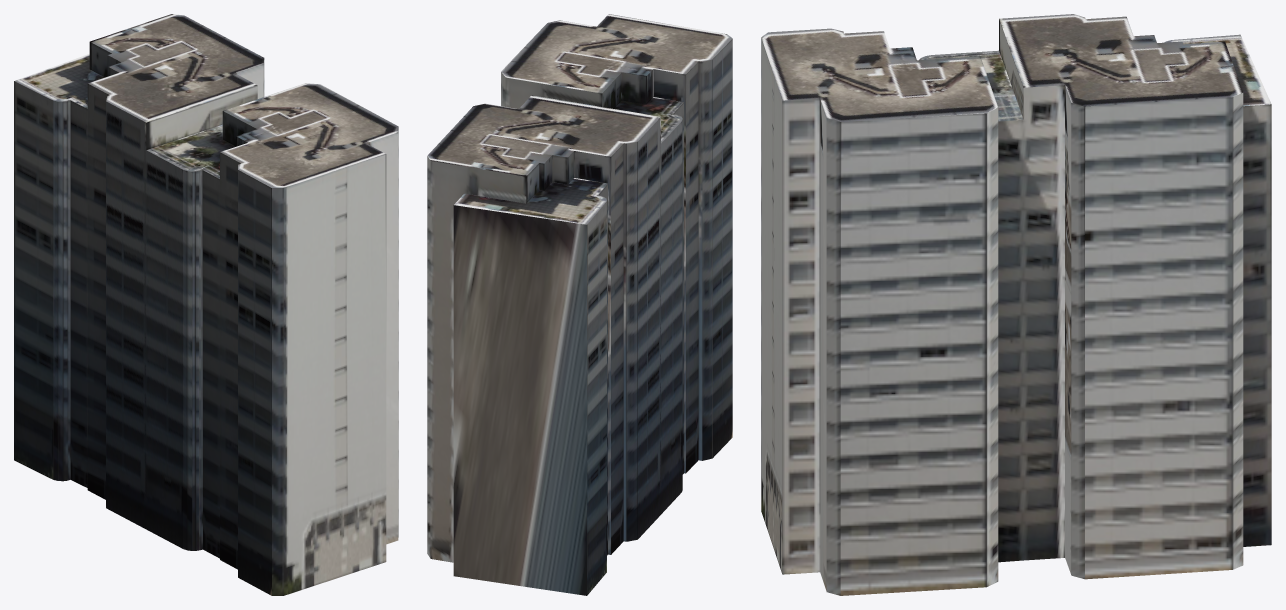
3 renders of one model, left to right at view 1: azimuth 30°, elevation 25°; view 2: azimuth 150°, elevation 25°; view 3: azimuth 270°, elevation 25°, orthographic. The views are drawn at different scales.
Visible parts, largest first — view 1: Z_UP; view 2: Z_UP; view 3: Z_UP.
Boxes of the visible parts, box(x1,y1,x2,y2) form: Z_UP: box(14, 14, 398, 595); Z_UP: box(427, 14, 732, 595); Z_UP: box(761, 14, 1271, 595).
Size of the model in its own units: 20.85 by 38.22 by 37.3.
Materials: 2 (1 with a texture image).
